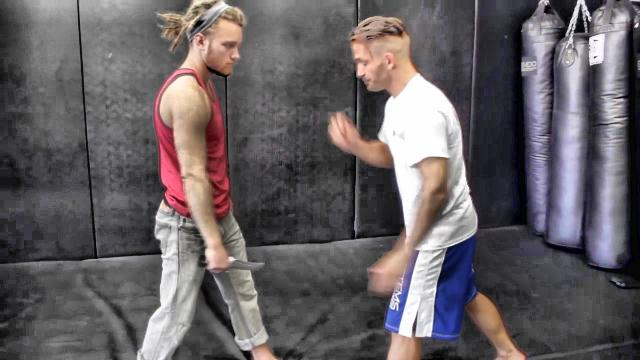knife: (193, 249, 270, 277)
